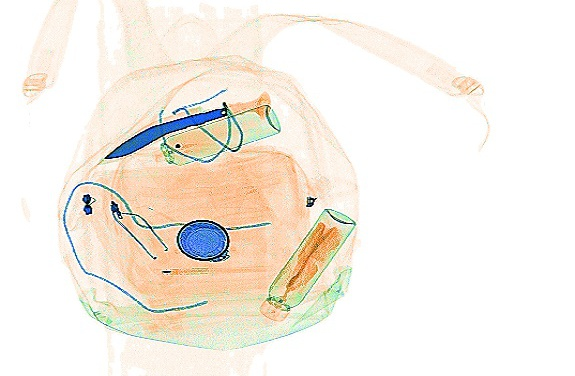knife: (102, 91, 271, 160)
pressure: (258, 207, 354, 321), (151, 103, 280, 167)
